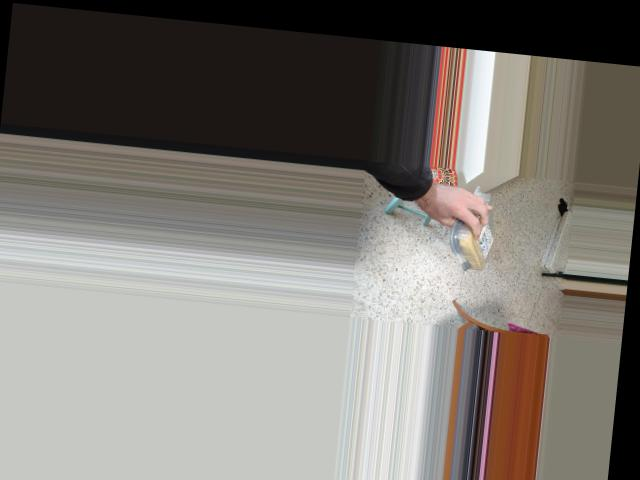cheese: (453, 195, 497, 272)
